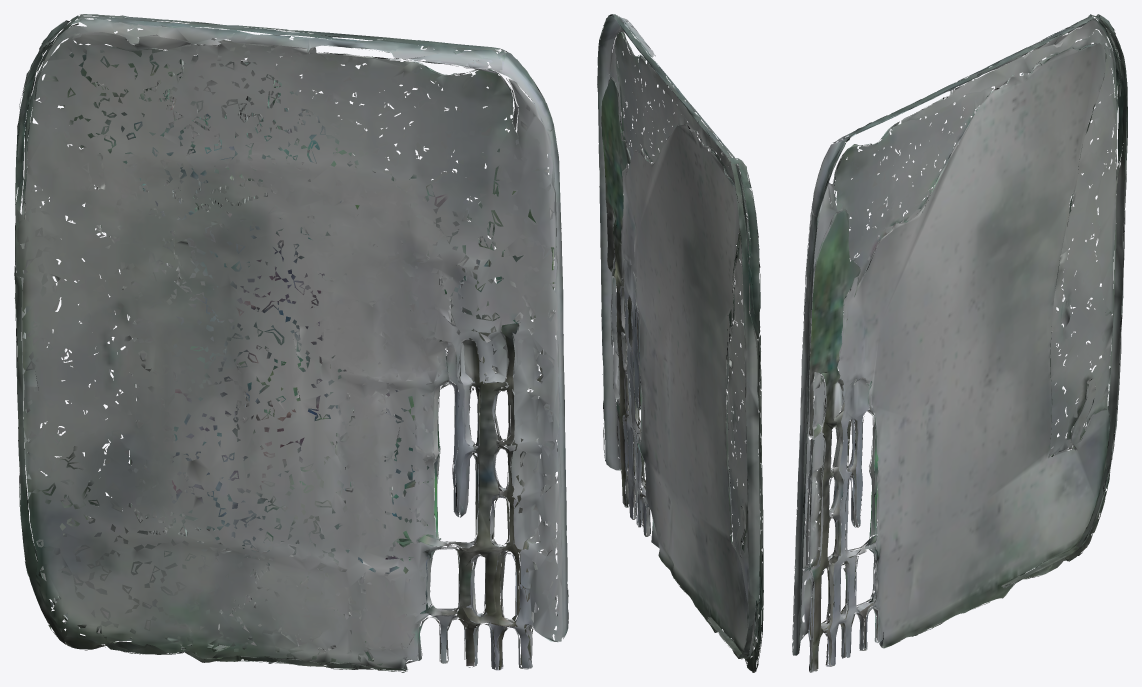
Rendered from sullust-factory.glb.
3 renders of one model, left to right at view 1: azimuth 30°, elevation 25°; view 2: azimuth 150°, elevation 25°; view 3: azimuth 270°, elevation 25°, orthographic. The views are drawn at different scales.
Visible parts, largest first — view 1: low; view 2: low; view 3: low.
Part boxes in pixels (<box>): low: <box>14,14,568,672</box>; low: <box>597,14,763,672</box>; low: <box>792,14,1127,672</box>.
Bounding box in the file's own units: 0.6224 × 1.01 × 0.553.
Materials: 1 (1 with a texture image).
